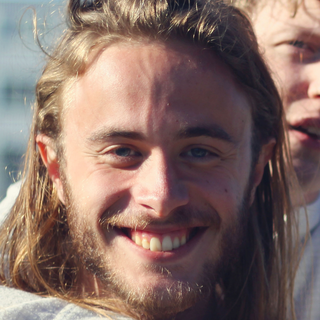eye: (97, 141, 146, 166), (177, 142, 224, 165)
